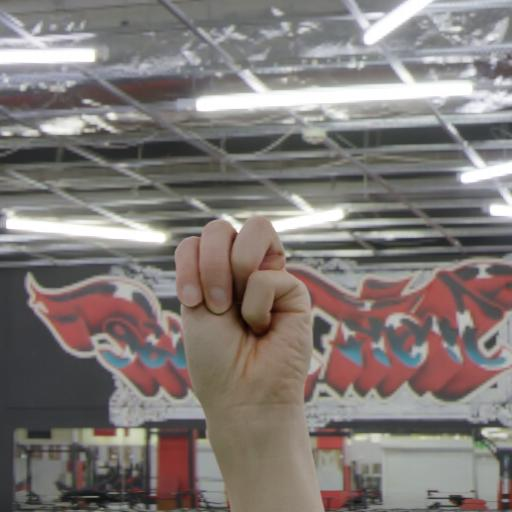M: (149, 205, 346, 510)
